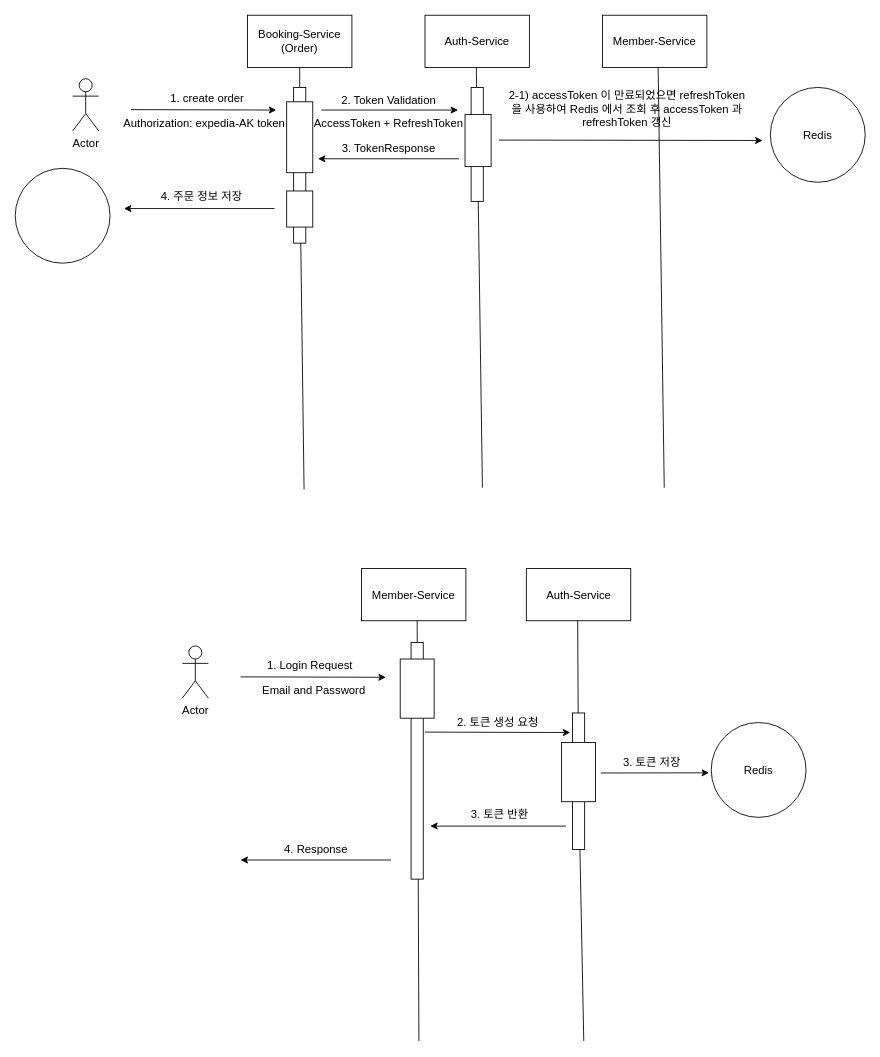
Some shapes in this 880 by 1057 pixel diagram are drawn without their labels. The box of each missing label's shape, as (x1, y1, x2, y2) in pixels:
Booking-Service-Database: (14, 167, 110, 263)
Create Tokens: (561, 742, 596, 802)
회원 정보 검증: (399, 658, 434, 718)
